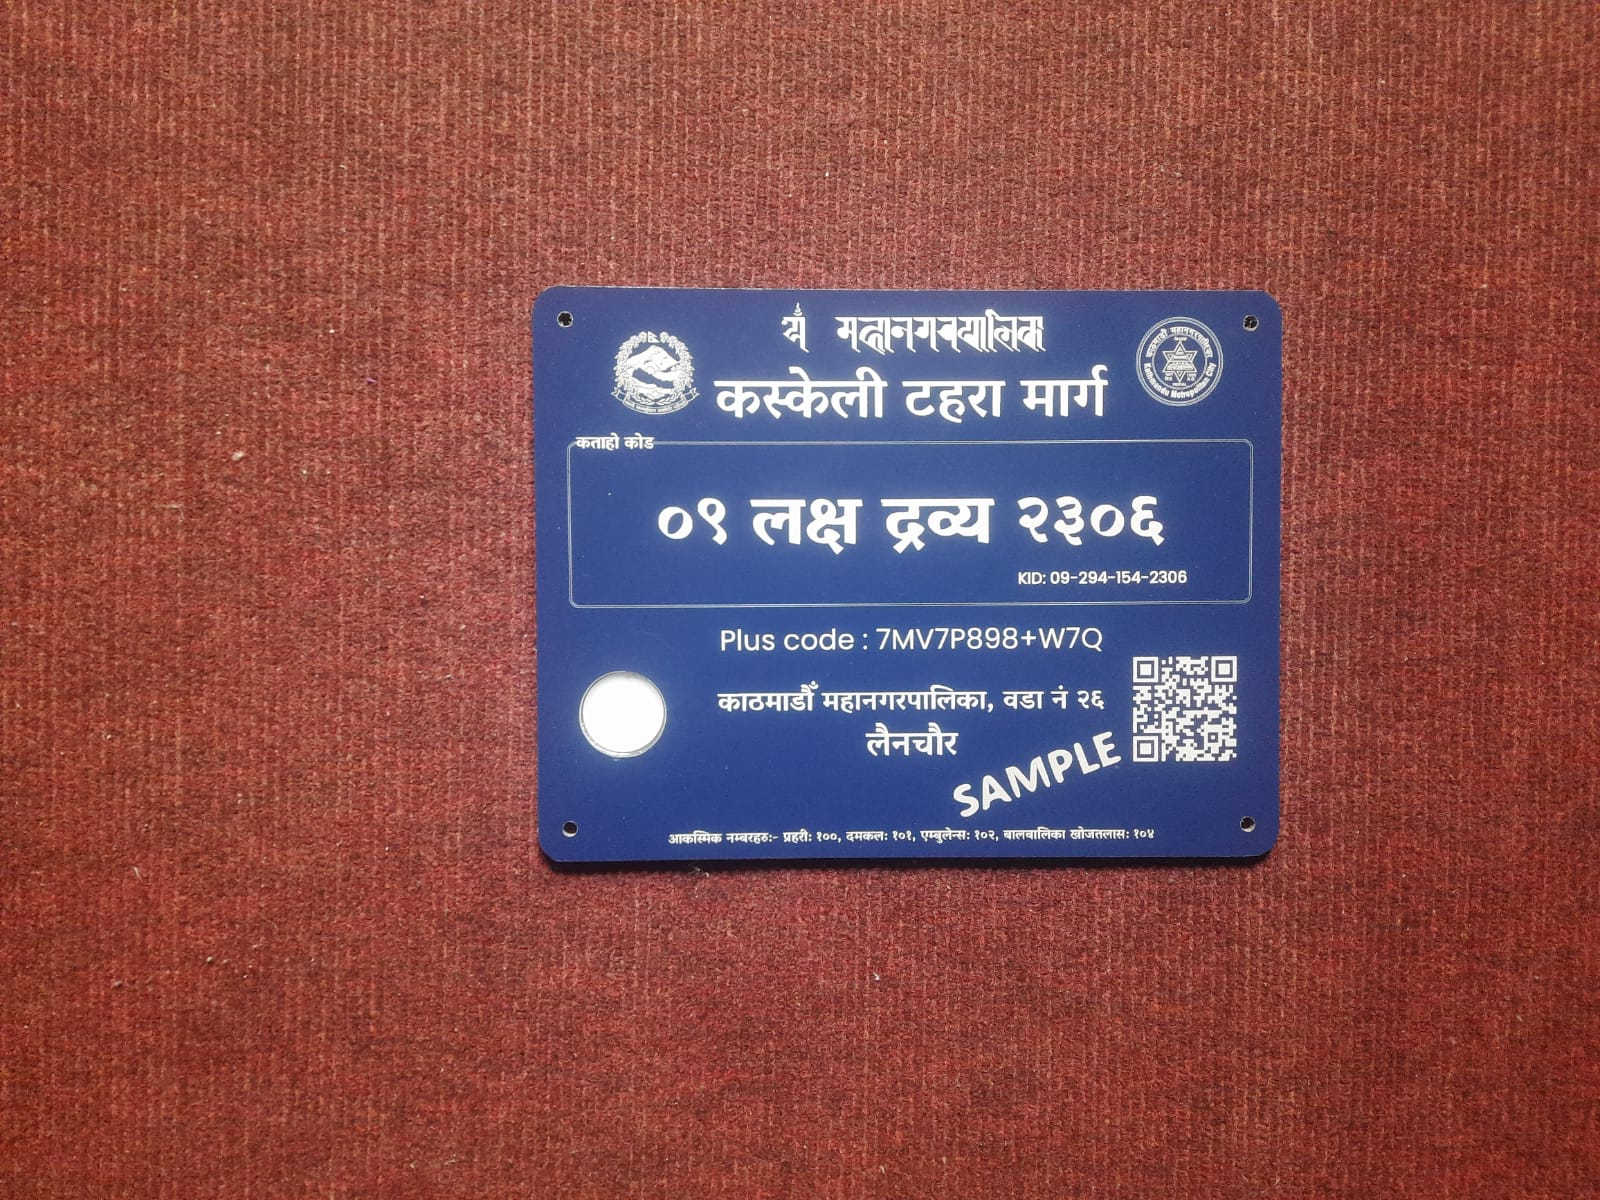Plate: (528, 283, 1289, 869)
